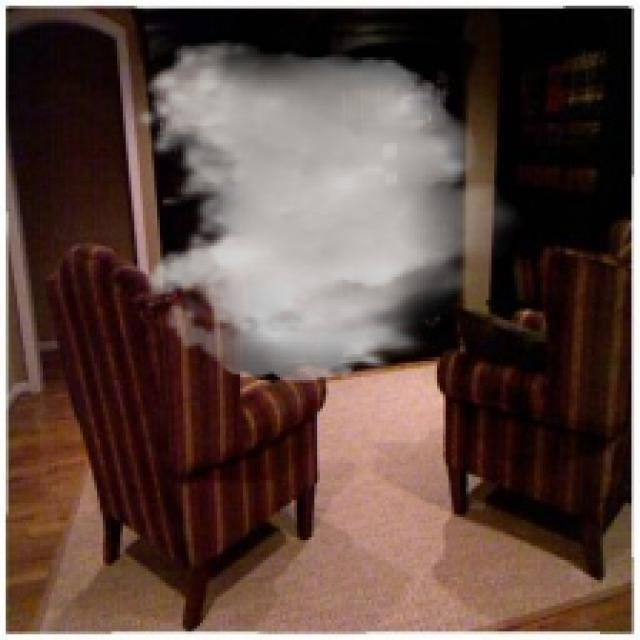Smoke: (131, 40, 526, 383)
